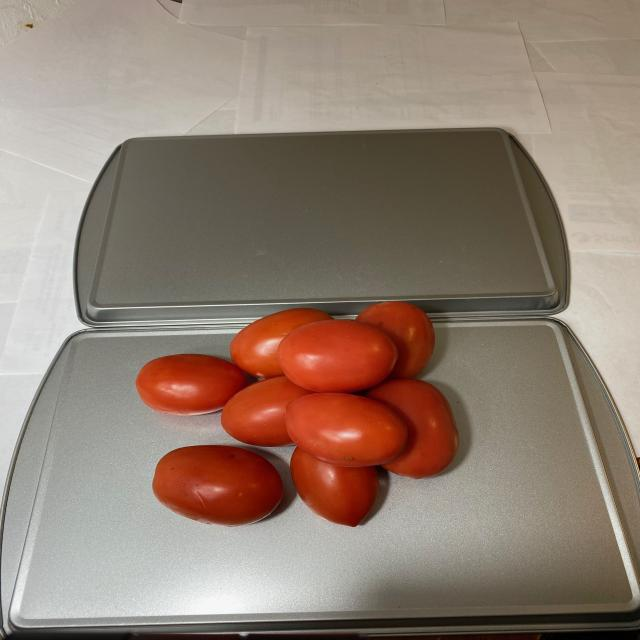tomato: (130, 302, 482, 530)
